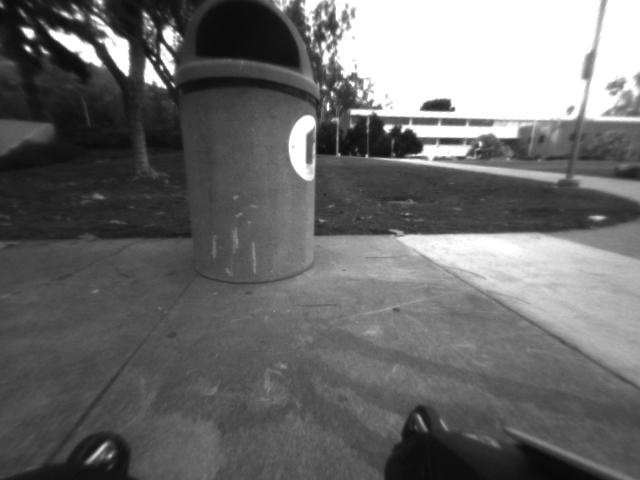trashcan: (167, 1, 337, 292)
